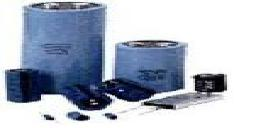Electrolytic-Capacitor: (20, 1, 107, 86), (115, 40, 185, 93), (191, 73, 228, 96)
